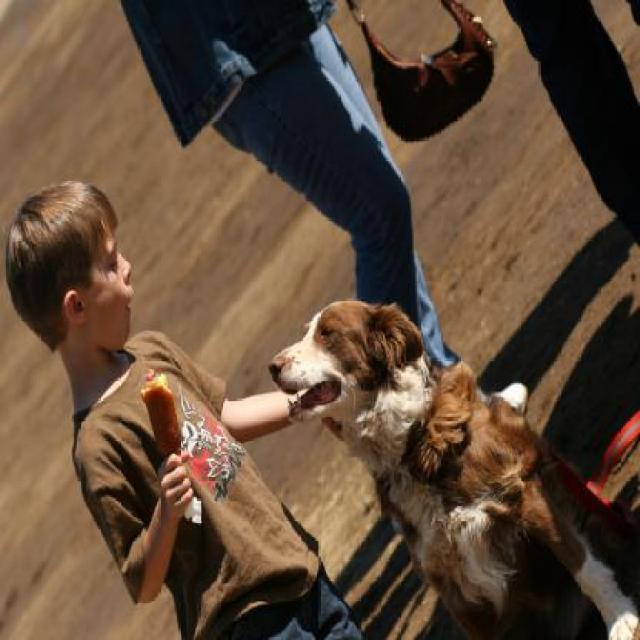Hot dog: (138, 366, 176, 460)
